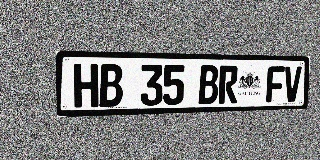3: (141, 65, 163, 106)
5: (163, 65, 185, 105)
B: (99, 64, 123, 107), (198, 65, 219, 104)
F: (266, 66, 285, 102)
H: (73, 64, 98, 108)
R: (218, 65, 238, 104)
V: (283, 66, 302, 102)
